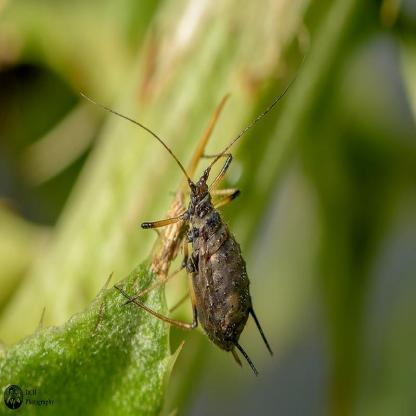aphid: (139, 126, 292, 376)
